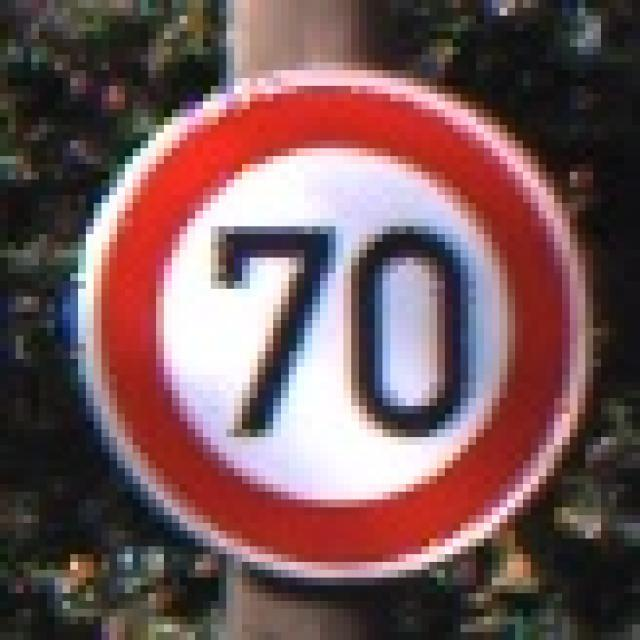speed limit 70: (74, 69, 584, 587)
